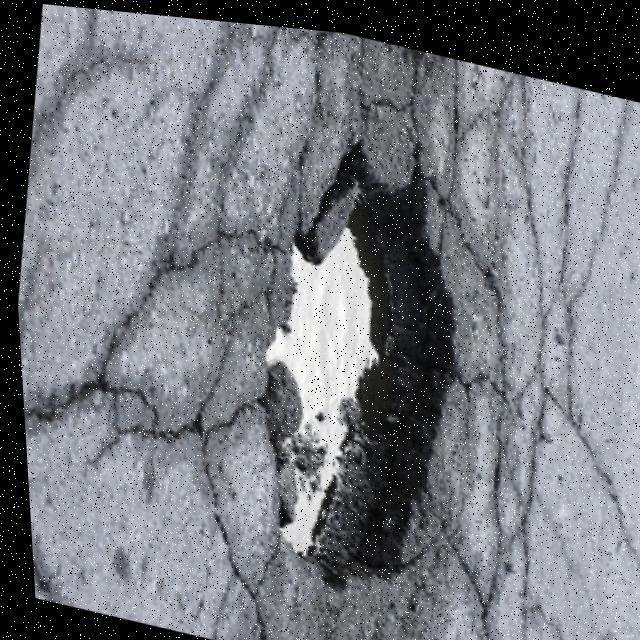Pothole: (256, 141, 455, 586)
